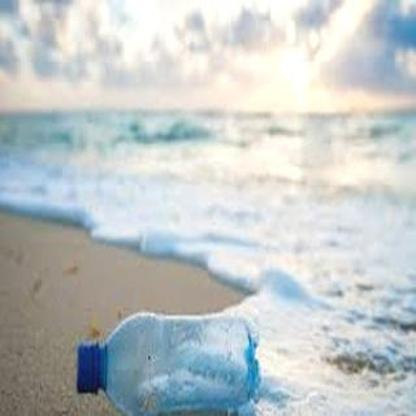plastic bottle: (77, 312, 260, 414)
